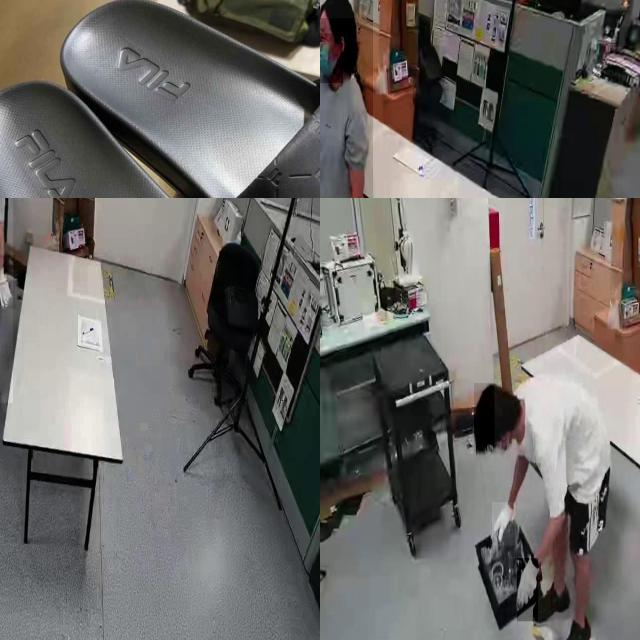Sandals: (0, 0, 320, 198)
face_mask: (320, 33, 343, 83)
hand_glove: (517, 558, 539, 622), (492, 502, 516, 547), (0, 255, 15, 308)
head_nohelmet: (474, 383, 495, 452), (320, 0, 354, 19)
person: (454, 366, 624, 640), (320, 0, 373, 198)
shoes: (531, 576, 572, 626), (556, 604, 594, 640)
